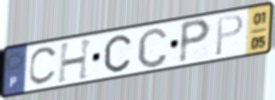C: (136, 26, 170, 70), (27, 45, 60, 87), (103, 33, 133, 74)
H: (57, 36, 96, 86)
P: (177, 17, 213, 66), (214, 13, 245, 58)
